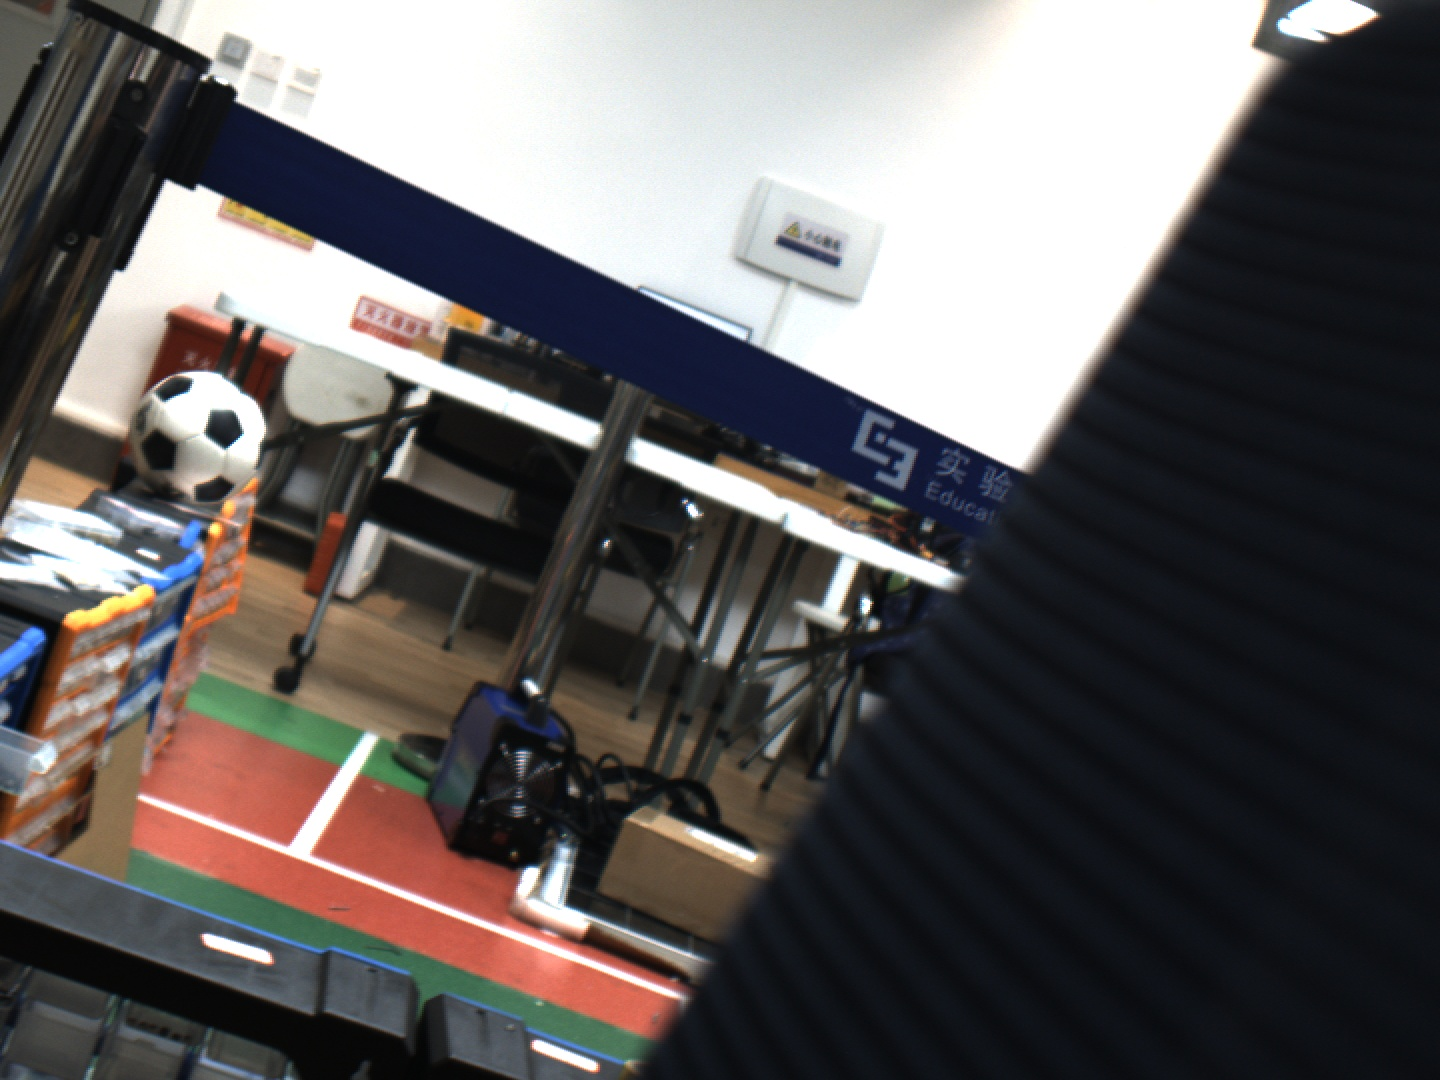ball: (108, 358, 281, 521)
